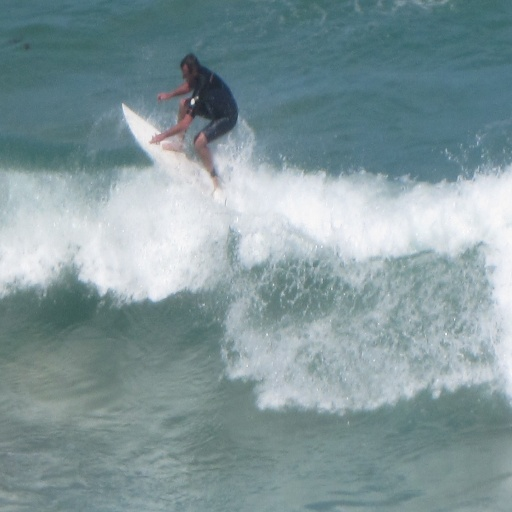hand: (148, 134, 164, 144), (156, 90, 168, 101)
